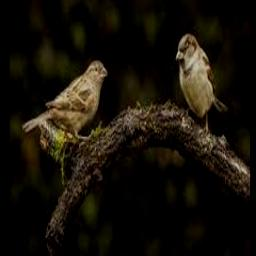Sparrow: (23, 57, 107, 138), (175, 33, 228, 134)
